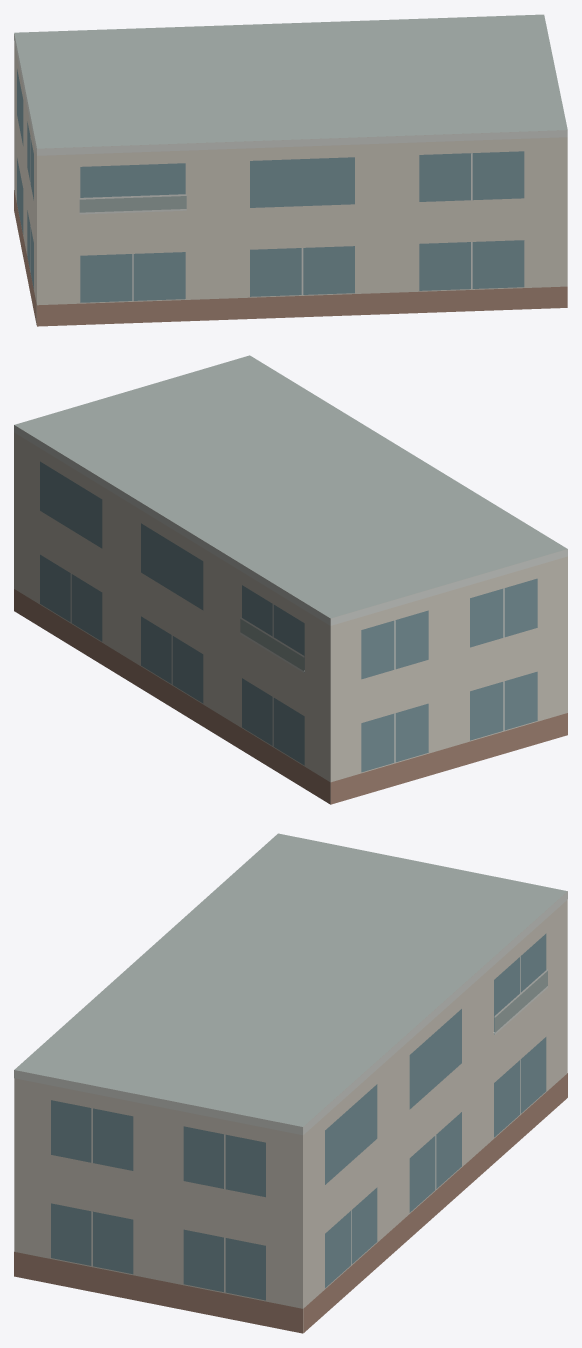
File: survey-upis-32671478.glb
The picture shows the model from 3 angles, top to bottom: view 1: azimuth 30°, elevation 25°; view 2: azimuth 150°, elevation 25°; view 3: azimuth 270°, elevation 25°; orthographic projection. The views are drawn at different scales.
Visible parts, largest first — view 1: survey-upis-32671478.tmp; view 2: survey-upis-32671478.tmp; view 3: survey-upis-32671478.tmp.
Part boxes in pixels (left/top/right/bottom): survey-upis-32671478.tmp: left=14, top=14, right=567, bottom=326; survey-upis-32671478.tmp: left=14, top=355, right=567, bottom=804; survey-upis-32671478.tmp: left=14, top=833, right=567, bottom=1333.
Size of the model in its own units: 18.62 by 6.1 by 14.83.
